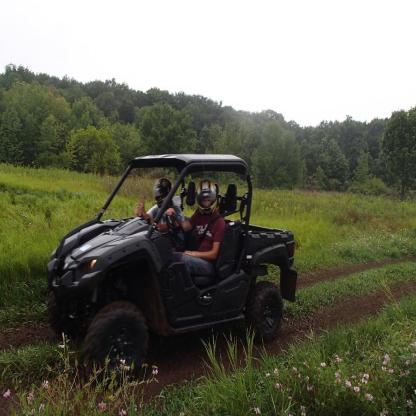Helmet: (194, 179, 219, 217), (154, 178, 172, 209)
